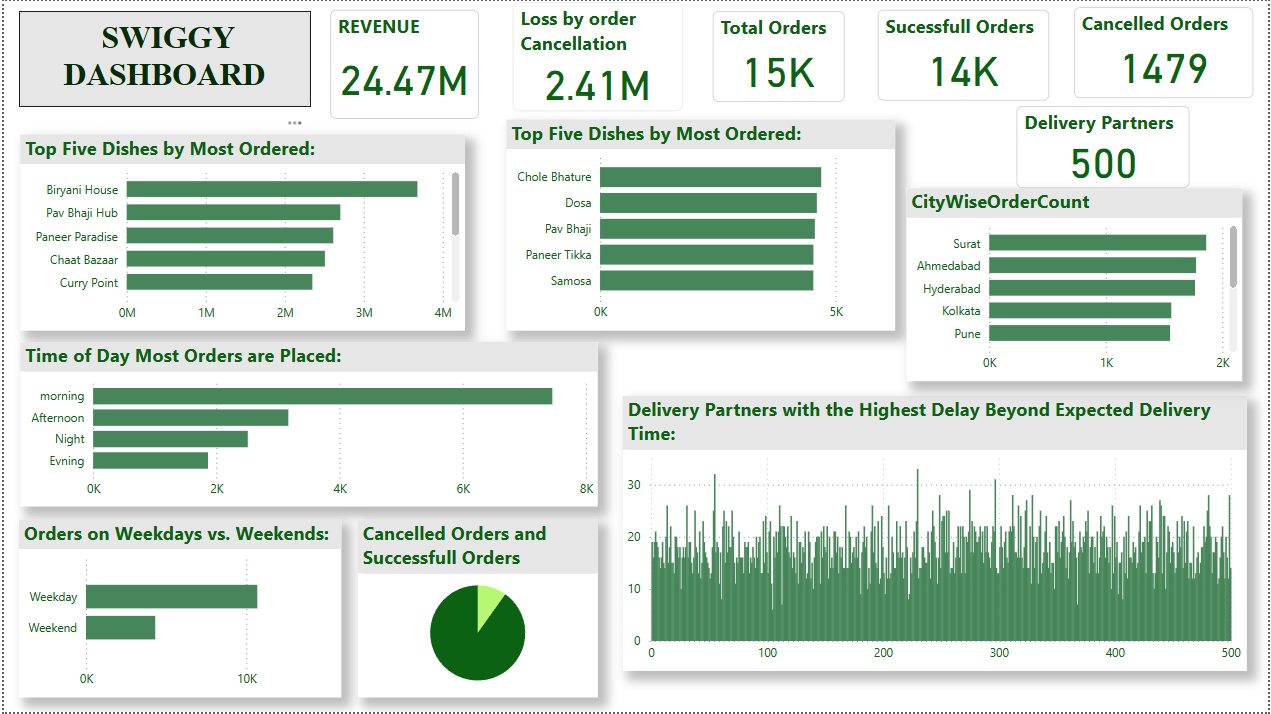

Layout of this report page (visuals, bound fields, positions):
{"tool":"powerbi","page":{"name":"Page 1","canvas":[1280,720],"ordinal":0},"visuals":[{"type":"card","title":"REVENUE","fields":{"Values":["calculations.price_sum"]},"box":[330,8.3,150,110],"z":0},{"type":"card","title":"Loss by order Cancellation ","fields":{"Values":["calculations.CancelledRevenue"]},"box":[515,1.7,171.7,110],"z":1000},{"type":"textbox","box":[15.7,10,294.3,97.1],"z":2000},{"type":"barChart","title":"Top Five Dishes by Most Ordered:","fields":{"Category":["restaurants.restaurant_name"],"Y":["calculations.price_sum"]},"box":[16.7,135,450,198.3],"z":3000},{"type":"barChart","title":"Top Five Dishes by Most Ordered:","fields":{"Y":["Sum(Orders.quantity)"],"Category":["Orders.dish_ordered"]},"box":[508.3,120,393.3,213.3],"z":4000},{"type":"barChart","title":"Time of Day Most Orders are Placed:","fields":{"Category":["Orders.time_of_day"],"Y":["CountNonNull(Orders.order_time)"]},"box":[16.7,345,585,166.7],"z":5000},{"type":"barChart","title":"Orders on Weekdays vs. Weekends:","fields":{"Category":["Orders.WeekendOrWeekday"],"Y":["Orders.OrderCount"]},"box":[15,525,326.7,180],"z":6000},{"type":"columnChart","title":"Delivery Partners with the Highest Delay Beyond Expected Delivery Time:","fields":{"Y":["Orders.DelayedOrdersCount"],"Category":["Orders.delivery_partner_id"]},"box":[626.7,400,631.7,278.3],"z":7000},{"type":"barChart","title":"CityWiseOrderCount ","fields":{"Category":["delivery_partners.city"],"Y":["Orders.CityWiseOrderCount"]},"box":[913.3,190,340,195],"z":8000},{"type":"pieChart","title":"Cancelled Orders and Successfull Orders","fields":{"Y":["Orders.CancelledOrders","Orders.SuccessfulOrders"]},"box":[358.3,525,243.3,180],"z":9000},{"type":"card","title":"Total Orders","fields":{"Values":["Orders.OrderCount"]},"box":[718.3,10,133.3,91.7],"z":10000},{"type":"card","title":"Sucessfull Orders","fields":{"Values":["Orders.SuccessfulOrders"]},"box":[885,8.3,173.3,91.7],"z":11000},{"type":"card","title":"Cancelled Orders","fields":{"Values":["Orders.CancelledOrders"]},"box":[1083.3,6.7,181.7,91.7],"z":12000},{"type":"card","title":"Delivery Partners","fields":{"Values":["delivery_partners.total delivery partners"]},"box":[1025,106.7,175,83.3],"z":13000}]}

Visuals, with their boxes in screenshot pixels (x1, y1, x2, y2), scaled from the page's 1280x720 canvas onto the 1271x714 screenshot:
"REVENUE" card: 328:8:477:117
"Loss by order Cancellation " card: 511:2:682:111
textbox: 16:10:308:106
"Top Five Dishes by Most Ordered:" barChart: 17:134:463:331
"Top Five Dishes by Most Ordered:" barChart: 505:119:895:331
"Time of Day Most Orders are Placed:" barChart: 17:342:597:507
"Orders on Weekdays vs. Weekends:" barChart: 15:521:339:699
"Delivery Partners with the Highest Delay Beyond Expected Delivery Time:" columnChart: 622:397:1250:673
"CityWiseOrderCount " barChart: 907:188:1244:382
"Cancelled Orders and Successfull Orders" pieChart: 356:521:597:699
"Total Orders" card: 713:10:846:101
"Sucessfull Orders" card: 879:8:1051:99
"Cancelled Orders" card: 1076:7:1256:98
"Delivery Partners" card: 1018:106:1192:188
